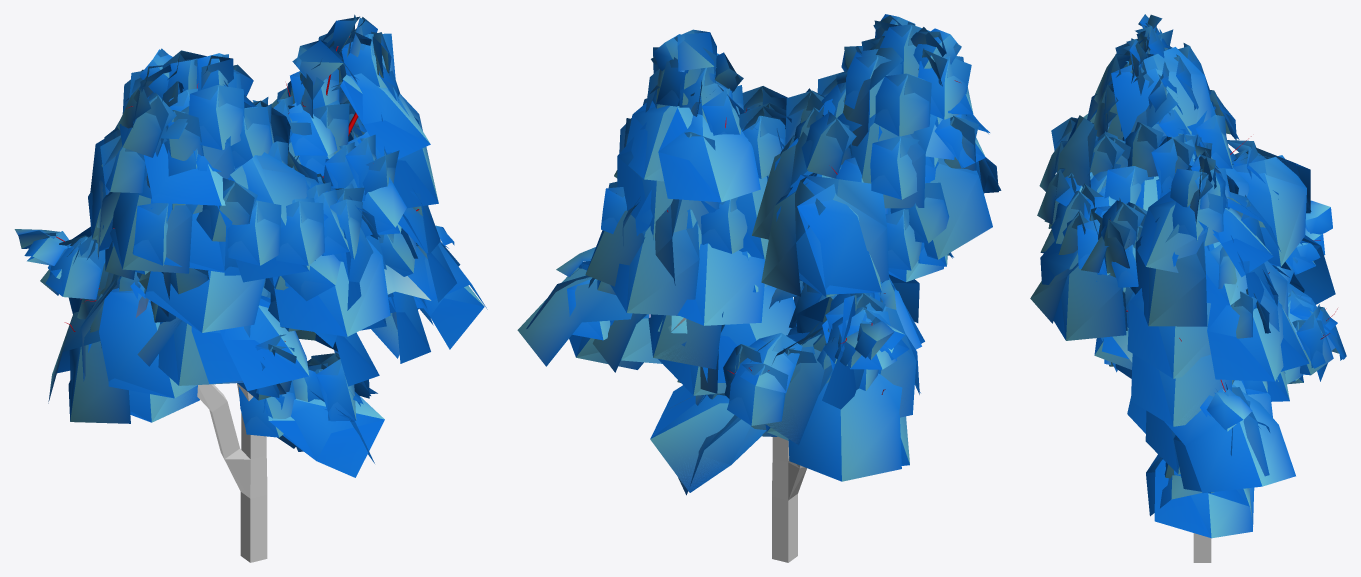
The model's file is eucalyptus_tall.dae.
The picture shows the model from 3 angles, left to right: view 1: azimuth 30°, elevation 25°; view 2: azimuth 150°, elevation 25°; view 3: azimuth 270°, elevation 25°; orthographic projection. The views are drawn at different scales.
Visible parts, largest first — view 1: eucalyptus_tall_a1200, eucalyptus_tall_a500, eucalyptus_tall_a300, Colmesh-1; view 2: eucalyptus_tall_a1200, eucalyptus_tall_a500, eucalyptus_tall_a300, Colmesh-1; view 3: eucalyptus_tall_a1200, eucalyptus_tall_a500, eucalyptus_tall_a300, Colmesh-1.
Boxes of the visible parts, x1,y1,x2,y2 form: eucalyptus_tall_a1200: [14, 14, 484, 463]; eucalyptus_tall_a500: [18, 16, 484, 477]; eucalyptus_tall_a300: [22, 17, 487, 451]; Colmesh-1: [197, 383, 267, 562]; eucalyptus_tall_a1200: [517, 14, 998, 495]; eucalyptus_tall_a500: [565, 22, 992, 492]; eucalyptus_tall_a300: [526, 20, 1001, 440]; Colmesh-1: [772, 436, 806, 562]; eucalyptus_tall_a1200: [1031, 14, 1346, 538]; eucalyptus_tall_a500: [1030, 18, 1346, 537]; eucalyptus_tall_a300: [1051, 23, 1339, 389]; Colmesh-1: [1193, 533, 1211, 562].
Size of the model in its own units: 18.61 by 13.52 by 23.22.
